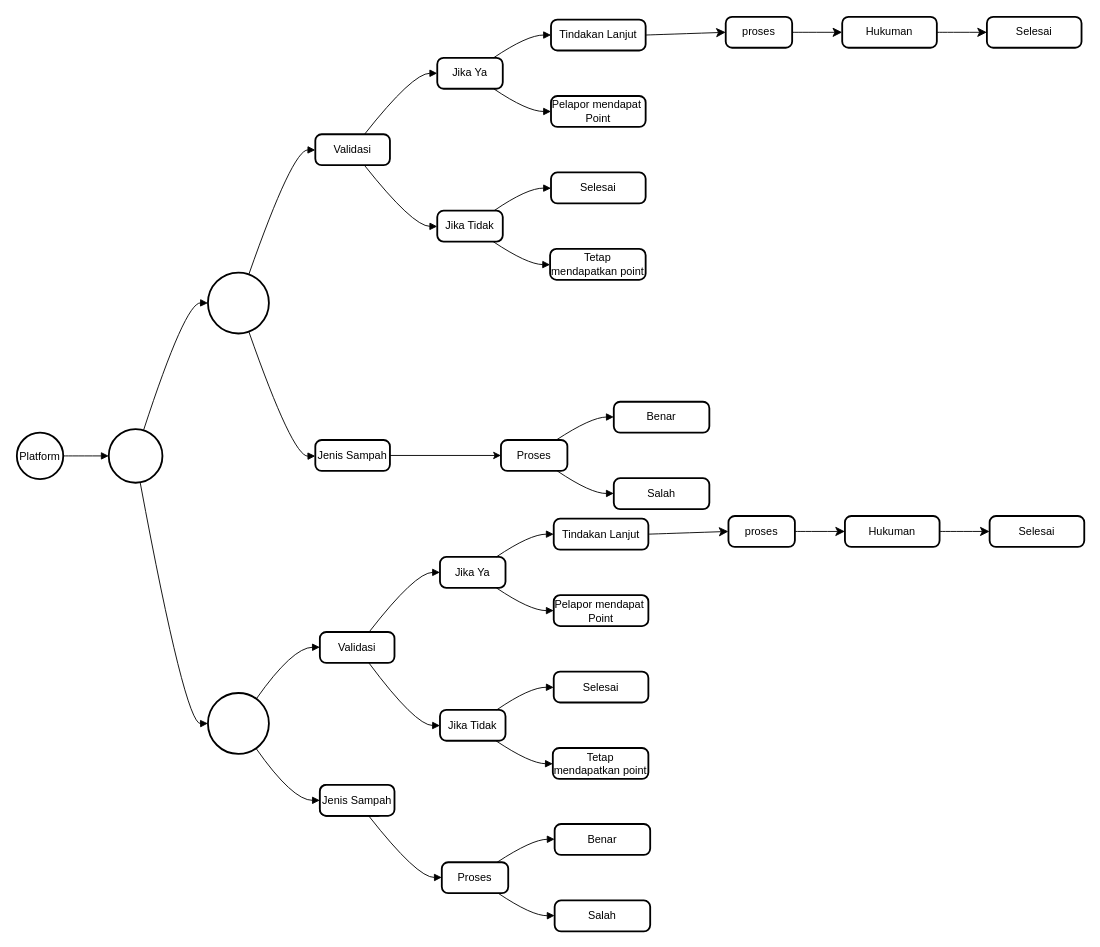
This 1100x947 diagram has some shape labels left out. The centre of each missing label's shape, as x and y in pixels:
"Dosen" belongs at pixel 238 723.
"Mahasiswa" belongs at pixel 238 302.
"Pelaporan" belongs at pixel 135 455.
